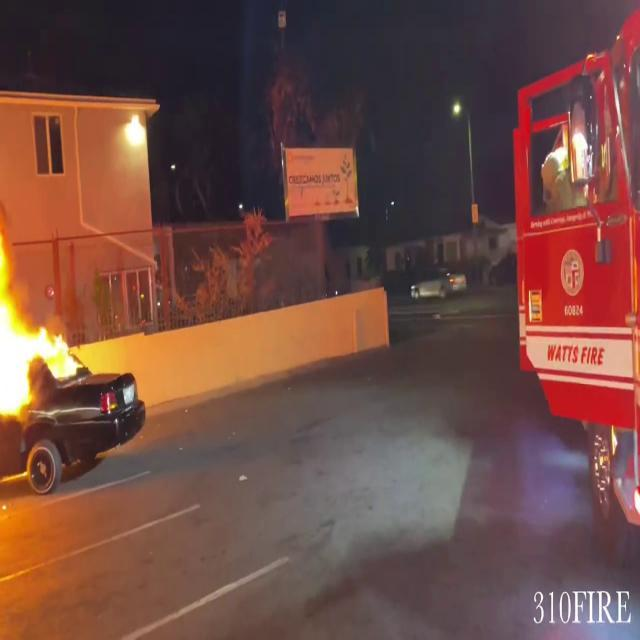Fire: (0, 182, 84, 422)
